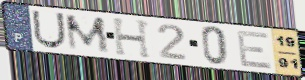0: (200, 25, 232, 67)
2: (156, 23, 187, 62)
E: (235, 29, 274, 71)
H: (111, 17, 154, 60)
M: (63, 14, 113, 54)
U: (30, 9, 67, 50)
